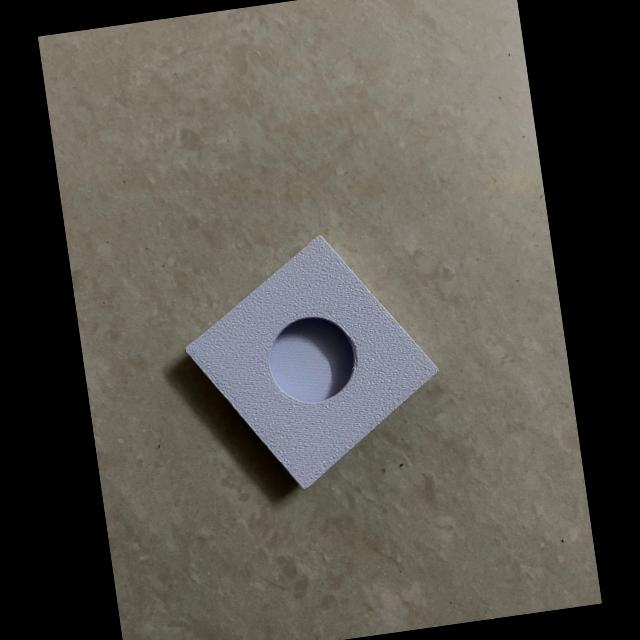RASPBERY PI CAM ENCLOSURE: (172, 222, 454, 504)
